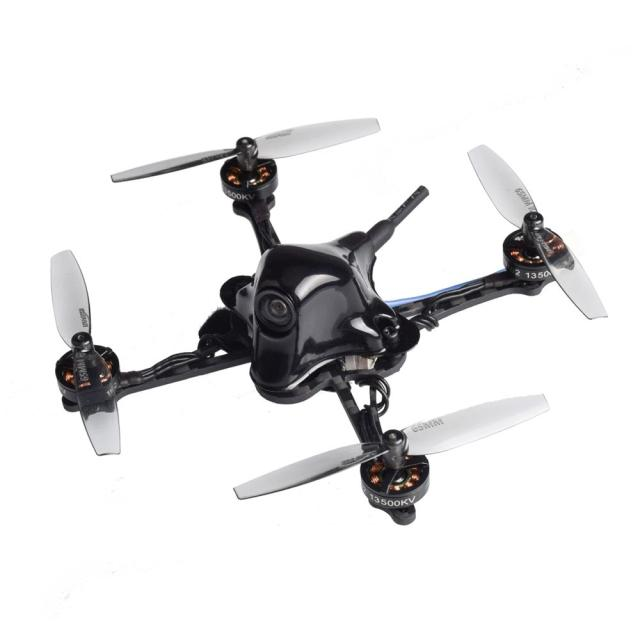drone: (13, 96, 616, 536)
